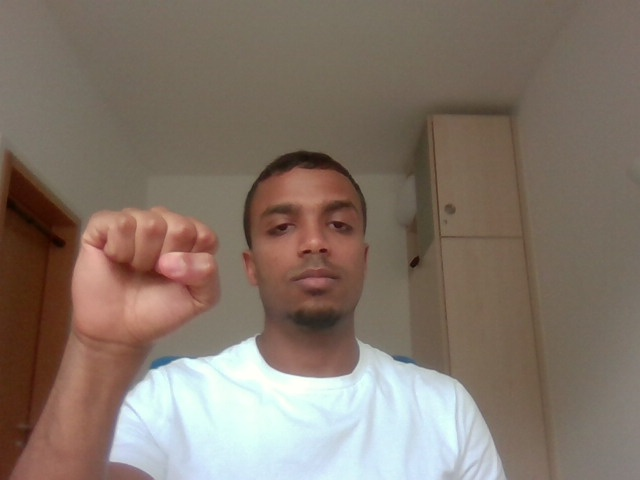neutral: (54, 172, 228, 357)
